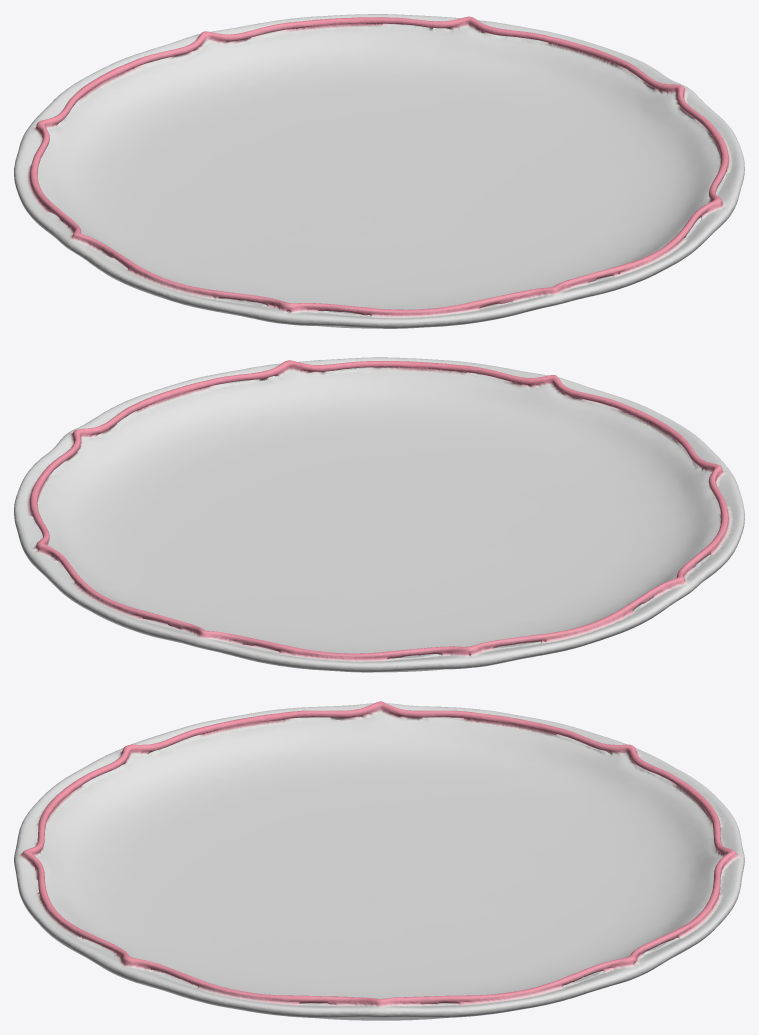
Rendered from pan_pink.glb.
3 renders of one model, top to bottom at view 1: azimuth 30°, elevation 25°; view 2: azimuth 150°, elevation 25°; view 3: azimuth 270°, elevation 25°, orthographic.
Size of the model in its own units: 1.87 by 0.1935 by 1.87.
1 material, 1 textured.
